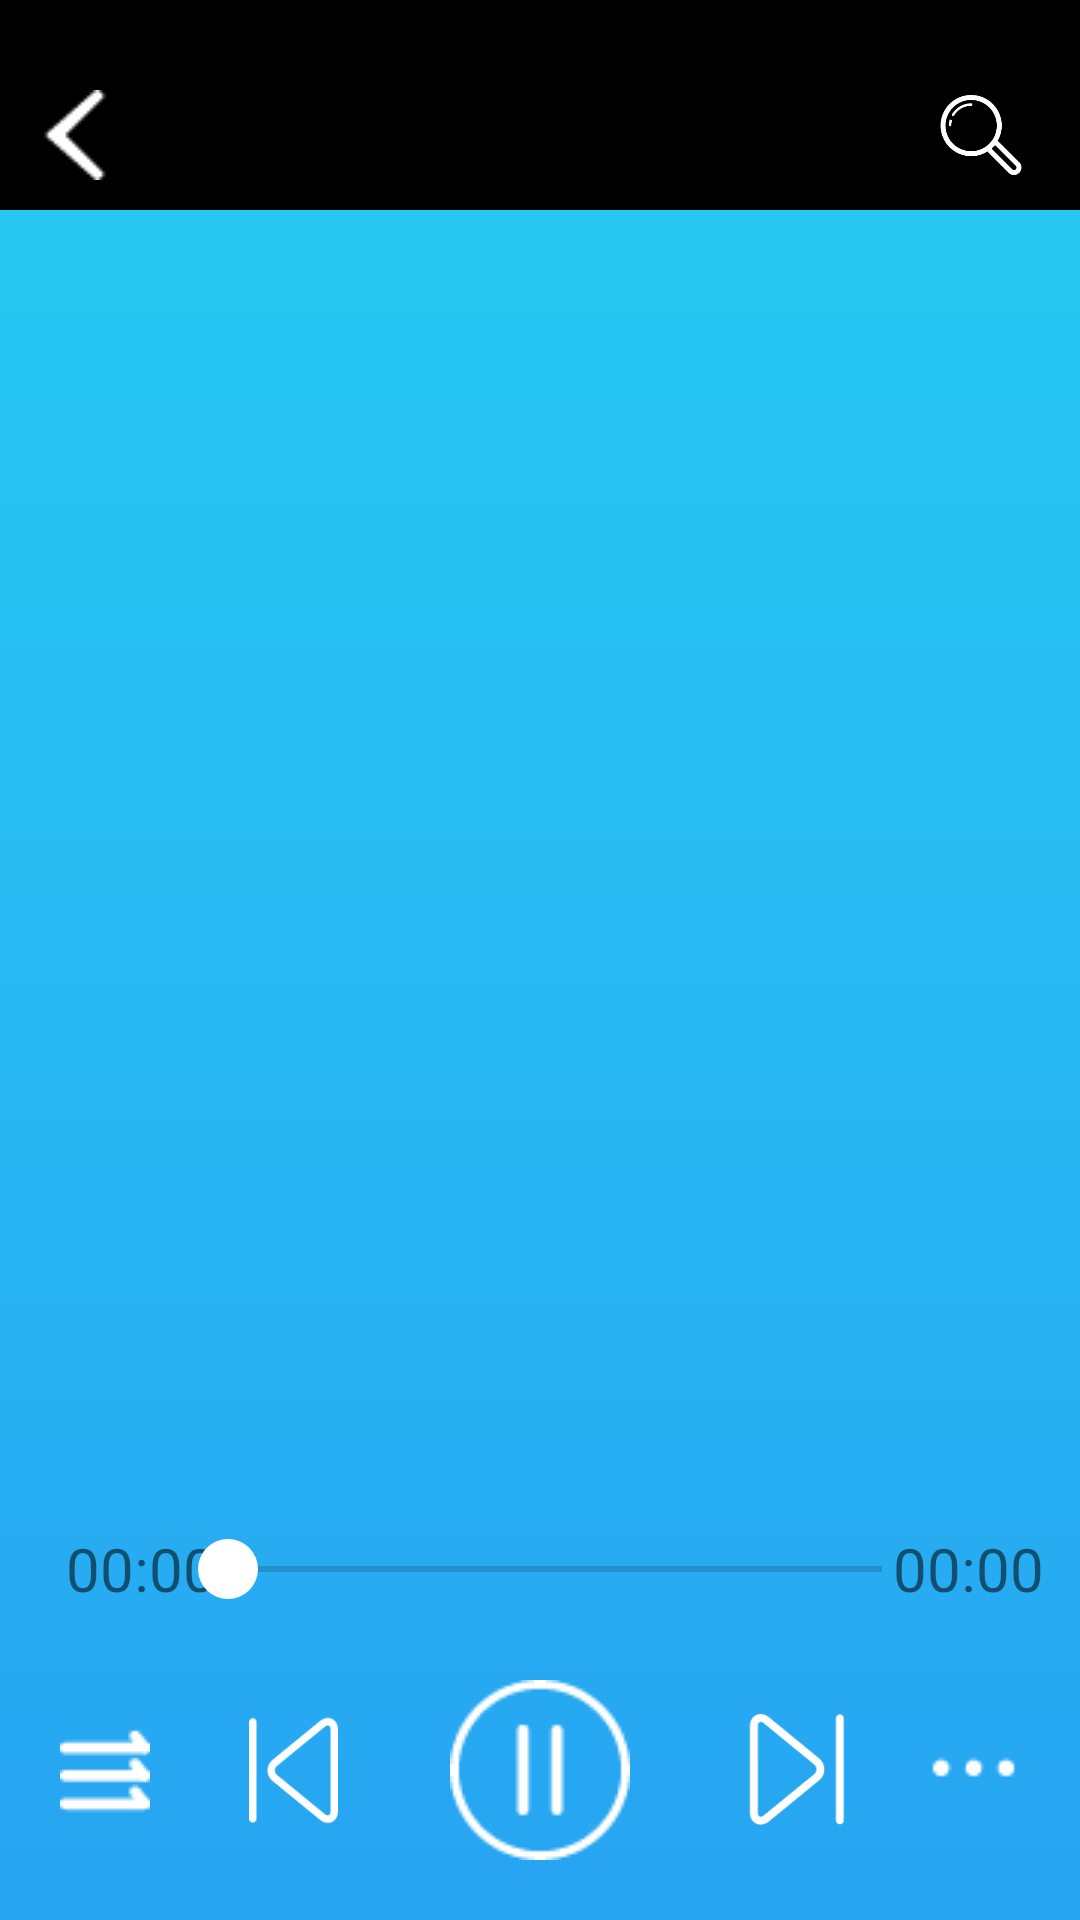

Where icons sit on this 1080px×1920px app screen, as (x1, y1, x2, y2):
next song: (749, 1714, 844, 1825)
paly order: (60, 1730, 150, 1812)
play last: (249, 1717, 338, 1824)
play other: (932, 1757, 1015, 1777)
play pause: (450, 1680, 630, 1860)
player exit: (44, 90, 106, 180)
search: (940, 95, 1022, 175)
